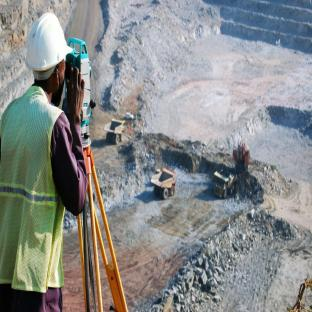Vehicle: (149, 169, 184, 205)
